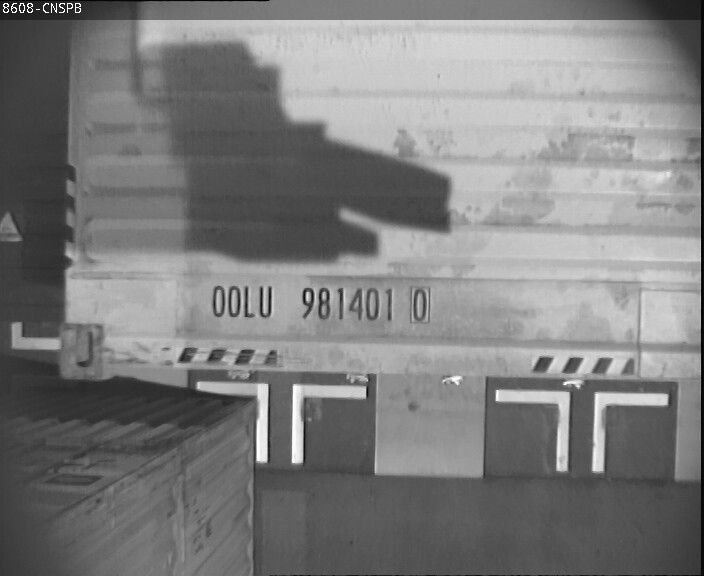groundmarker_1: (192, 380, 367, 464), (494, 388, 670, 471)
